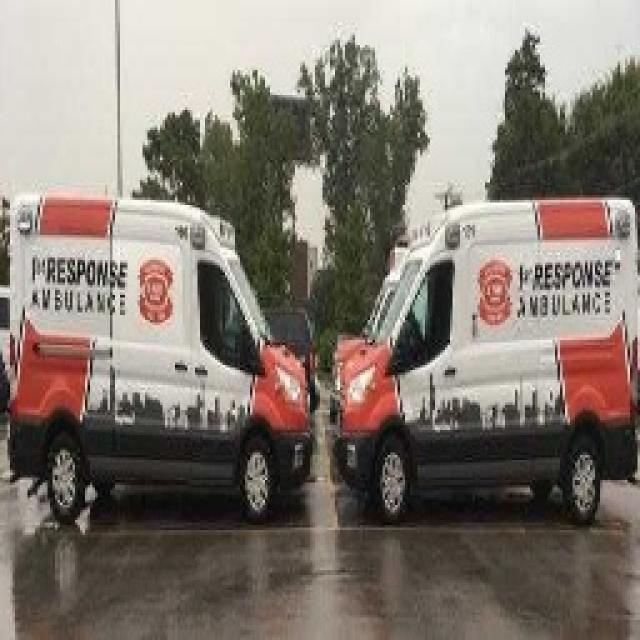emergency-vehicle: (333, 191, 638, 518), (12, 184, 306, 518)
